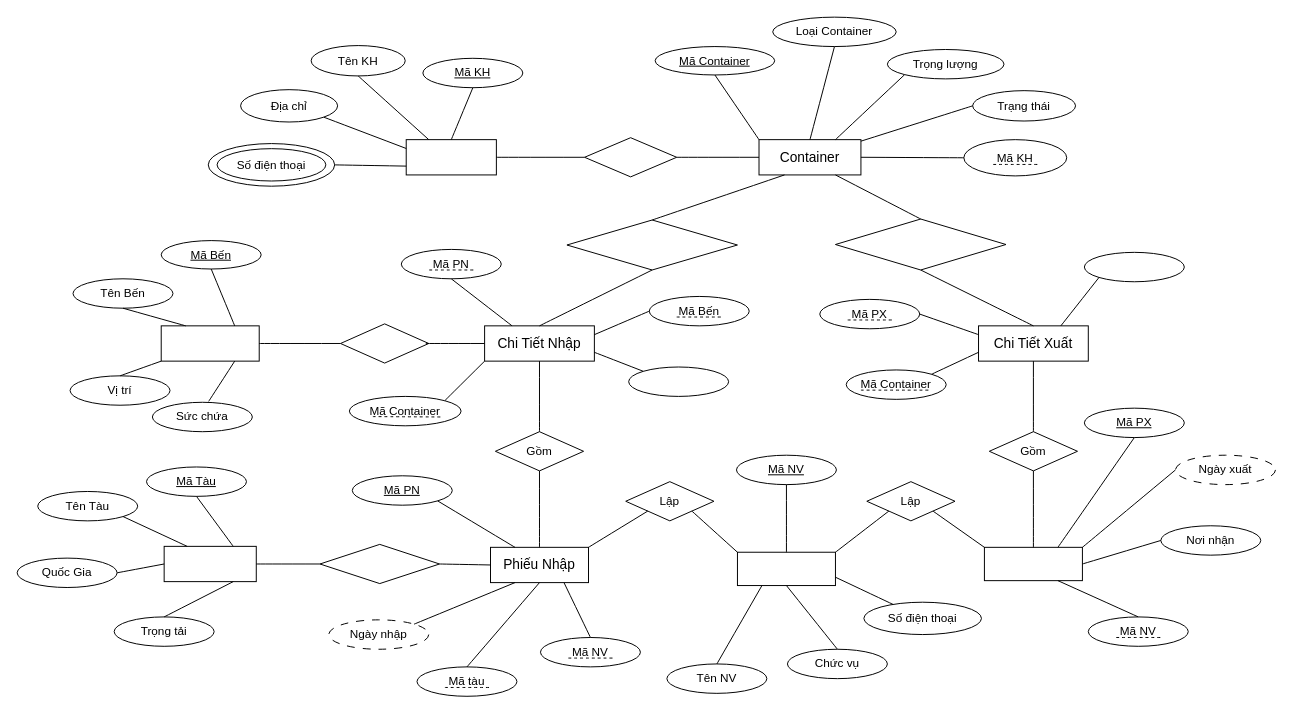
Some shapes in this 1293 by 713 pixel diagram are drawn without their labels. The shapes that lost their labels are listed below. From the top down, each one's centre as x and y in pixels, then its label:
At (x=450, y=157): "Khách Hàng".
At (x=630, y=157): "Sở hữu".
At (x=651, y=244): "Được Nhập Trong".
At (x=920, y=244): "Được Xuất Trong".
At (x=1133, y=266): "Ghi chú".
At (x=209, y=343): "Bến Cảng".
At (x=384, y=343): "Lưu Trữ".
At (x=678, y=381): "Vị trí lưu".
At (x=209, y=563): "Tàu".
At (x=379, y=563): "Vận Chuyển".
At (x=785, y=568): "Nhân Viên".
At (x=1032, y=563): "Phiếu Xuất".
